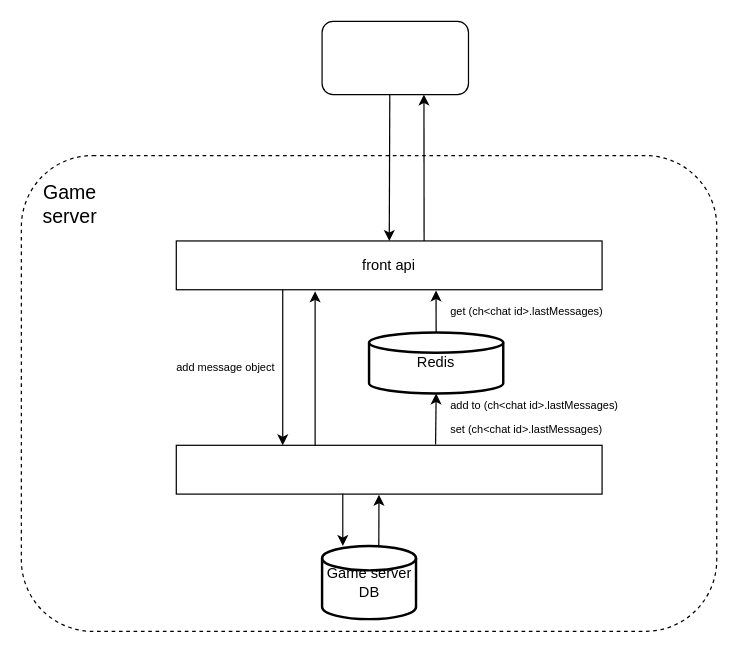
The diagram is 738 pixels wide and 653 high, and some of its shapes have lost their labels. The box of each missing label's shape, as (x1, y1, x2, y2) in pixels:
backend: (175, 444, 602, 494)
Client app: (321, 20, 468, 95)
